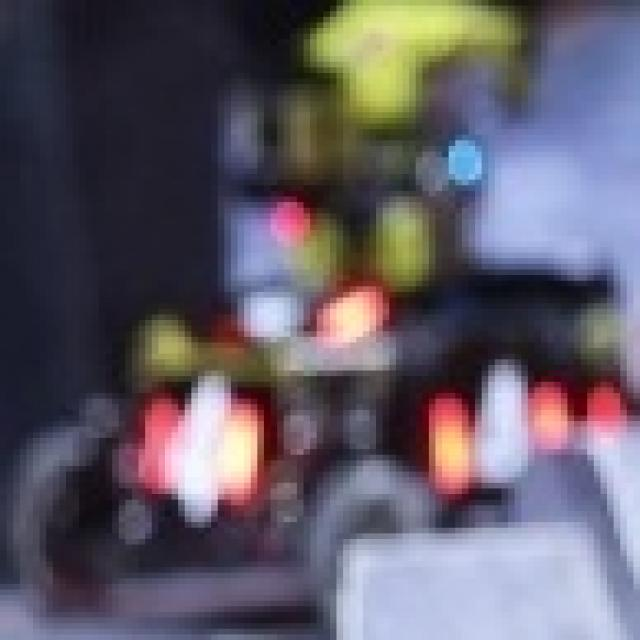R4: (422, 354, 568, 499), (138, 371, 258, 516)
